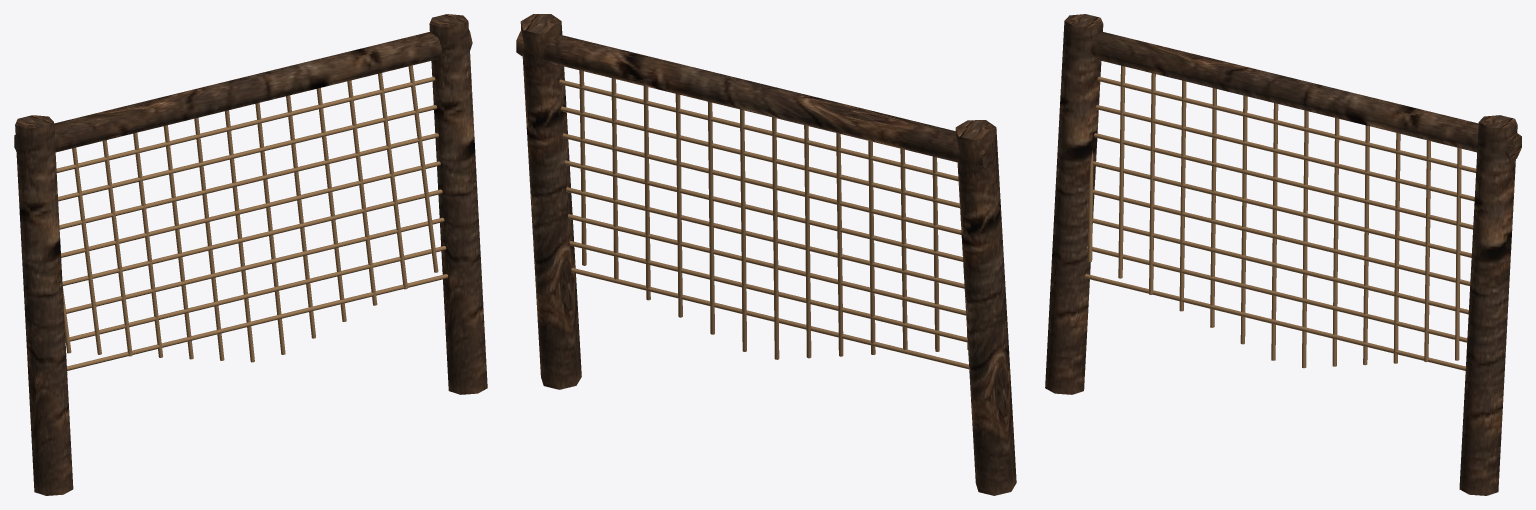
The model's file is bronzeNet.glb.
3 renders of one model, left to right at view 1: azimuth 30°, elevation 25°; view 2: azimuth 150°, elevation 25°; view 3: azimuth 330°, elevation 25°, orthographic. The views are drawn at different scales.
Visible parts, largest first — view 1: part_0, part_1; view 2: part_0, part_1; view 3: part_0, part_1.
Boxes of the visible parts, left/top/right/bottom form: part_0: left=14, top=14, right=487, bottom=495; part_1: left=56, top=65, right=448, bottom=370; part_0: left=516, top=14, right=1016, bottom=495; part_1: left=559, top=70, right=969, bottom=369; part_0: left=1045, top=14, right=1521, bottom=495; part_1: left=1084, top=65, right=1476, bottom=370.
Size of the model in its own units: 1.34 by 1.02 by 0.1984.
2 materials, 1 textured.
